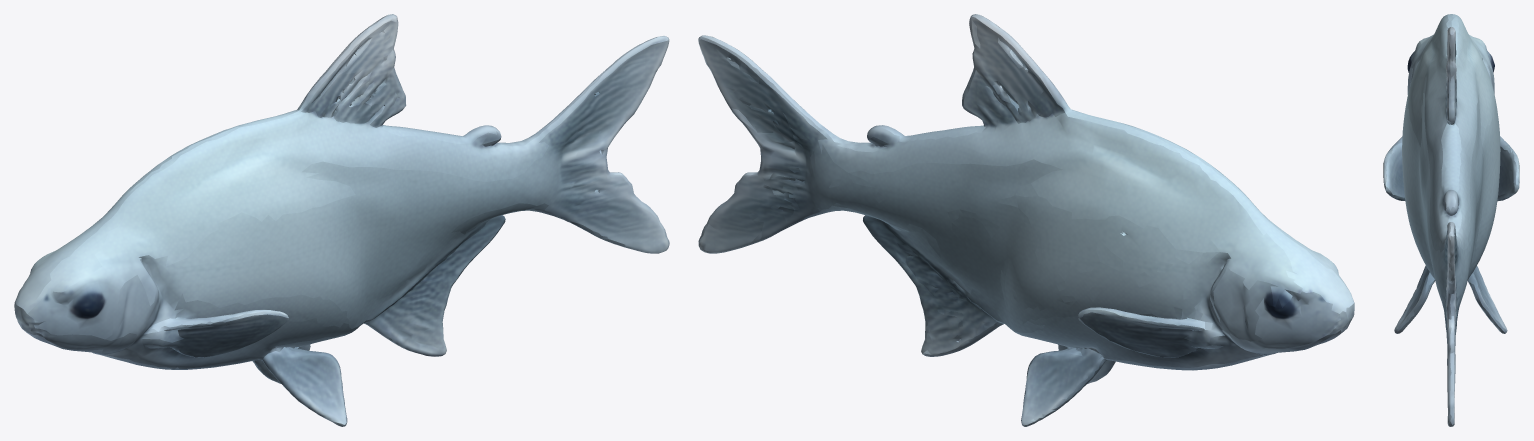
Rendered from fish_taxi.glb.
3 renders of one model, left to right at view 1: azimuth 30°, elevation 25°; view 2: azimuth 150°, elevation 25°; view 3: azimuth 270°, elevation 25°, orthographic. The views are drawn at different scales.
Parts seen in each view (by area): view 1: world; view 2: world; view 3: world.
Part boxes in pixels (x1,y1,x2,y2): world: (14,14,669,426); world: (698,14,1354,426); world: (1383,14,1519,426).
Size of the model in its own units: 0.3 by 0.1635 by 0.0599.
1 material, 1 textured.
